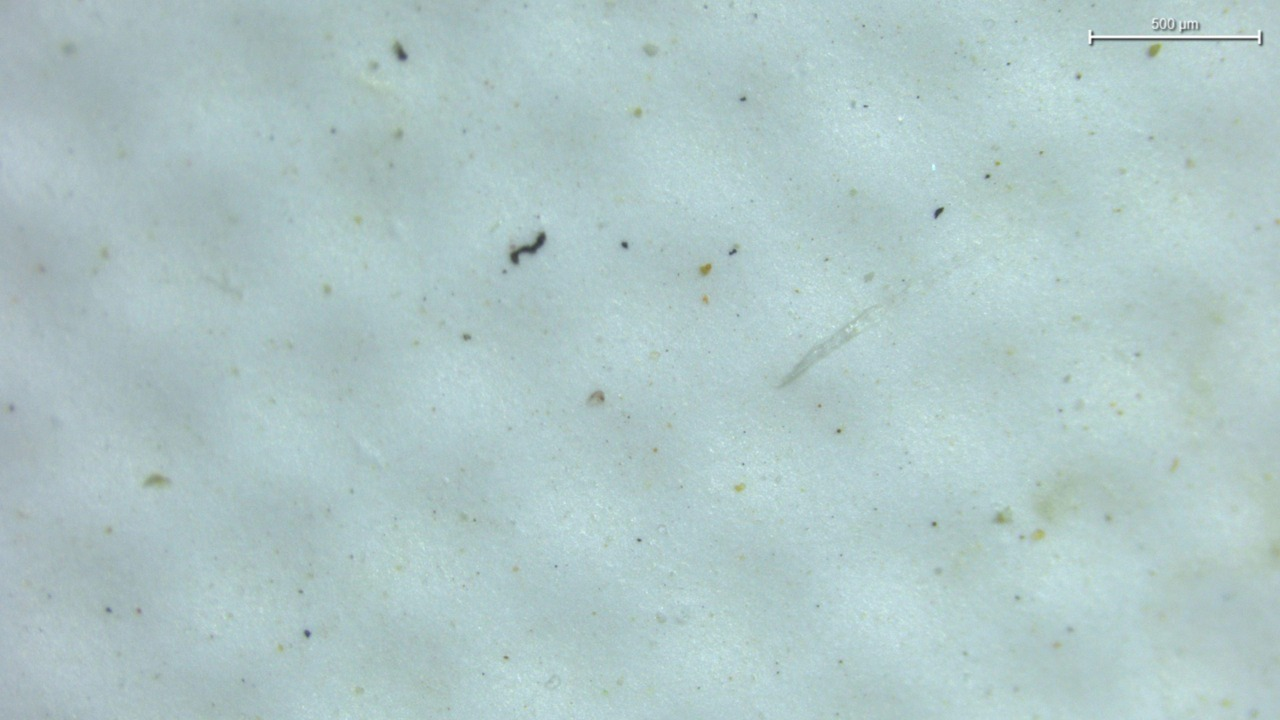microplastic_fragment: (779, 305, 881, 387)
